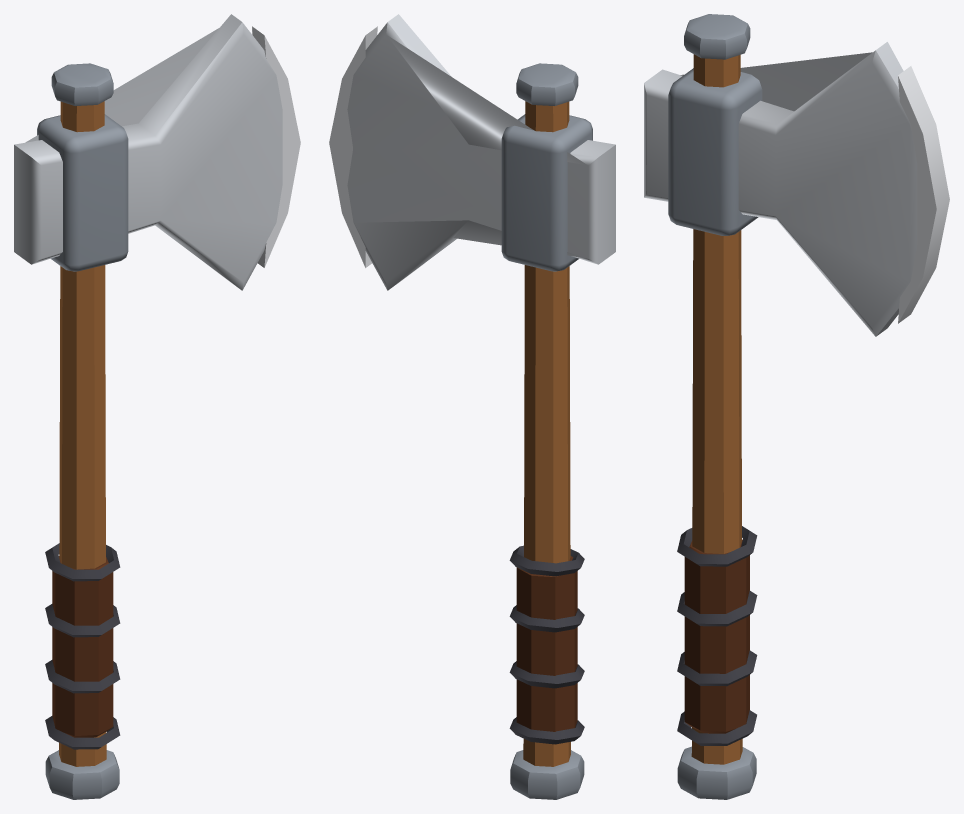
File: IronAxe.fbx
3 views of the same model, side by side, from view 1: azimuth 30°, elevation 25°; view 2: azimuth 150°, elevation 25°; view 3: azimuth 330°, elevation 25° (orthographic). The views are drawn at different scales.
Parts seen in each view (by area): view 1: IronAxe; view 2: IronAxe; view 3: IronAxe.
Boxes of the visible parts, x1=… form: IronAxe: x1=14, y1=14, x2=300, y2=799; IronAxe: x1=329, y1=14, x2=615, y2=799; IronAxe: x1=644, y1=14, x2=949, y2=799.
Bounding box in the file's own units: 1.27 × 3.27 × 0.3129.
1 material, 1 textured.
